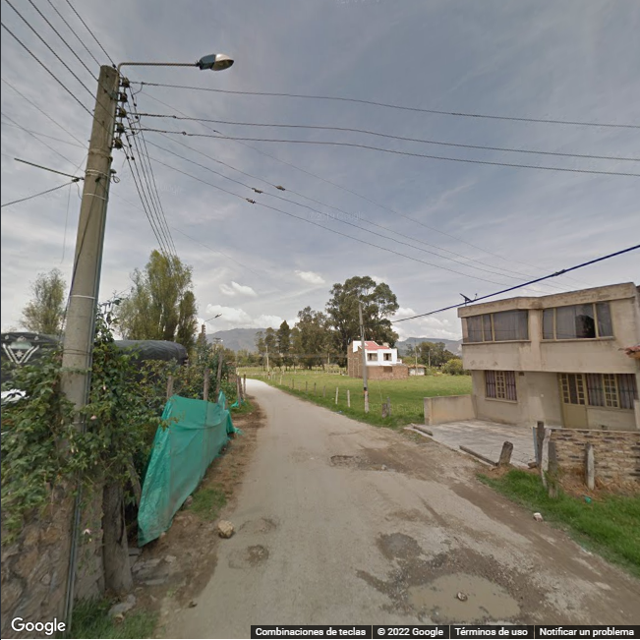D40: (406, 564, 520, 620), (384, 530, 417, 555), (239, 515, 280, 535), (244, 541, 268, 564)
